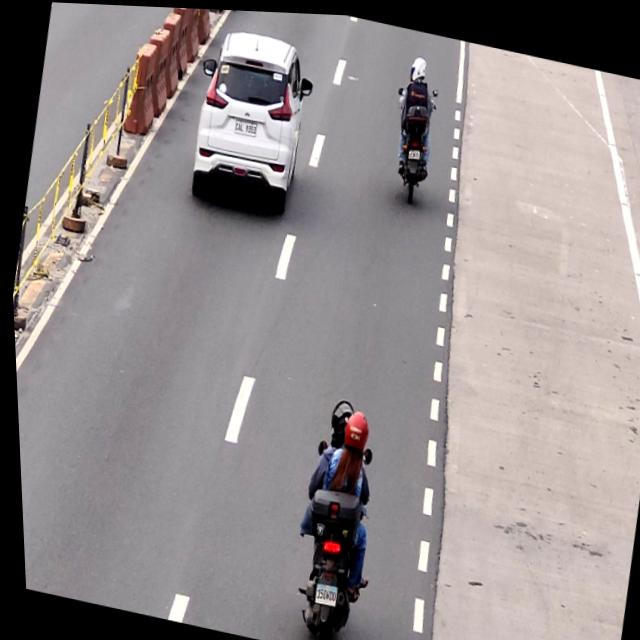Car: (183, 23, 318, 215)
License-Plate: (306, 582, 333, 607), (231, 116, 258, 138), (403, 143, 423, 159)
Motorcycle: (273, 391, 390, 640), (382, 47, 448, 203)
